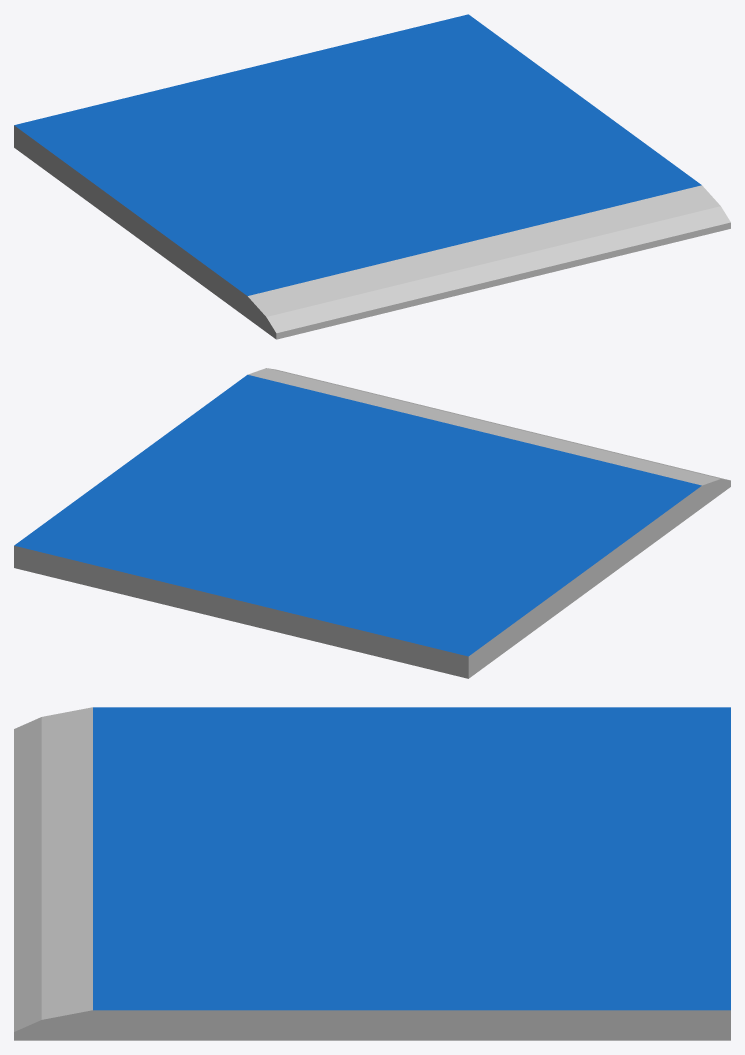
Rendered from SM_sidewalk_6.fbx.
3 renders of one model, top to bottom at view 1: azimuth 30°, elevation 25°; view 2: azimuth 150°, elevation 25°; view 3: azimuth 270°, elevation 25°, orthographic. The views are drawn at different scales.
Parts seen in each view (by area): view 1: Cube_27; view 2: Cube_27; view 3: Cube_27.
Part boxes in pixels (x1,y1,x2,y2): Cube_27: (14,14,730,339); Cube_27: (14,368,730,678); Cube_27: (14,707,730,1040).
Bounding box in the file's own units: 250 × 11.76 × 250.
